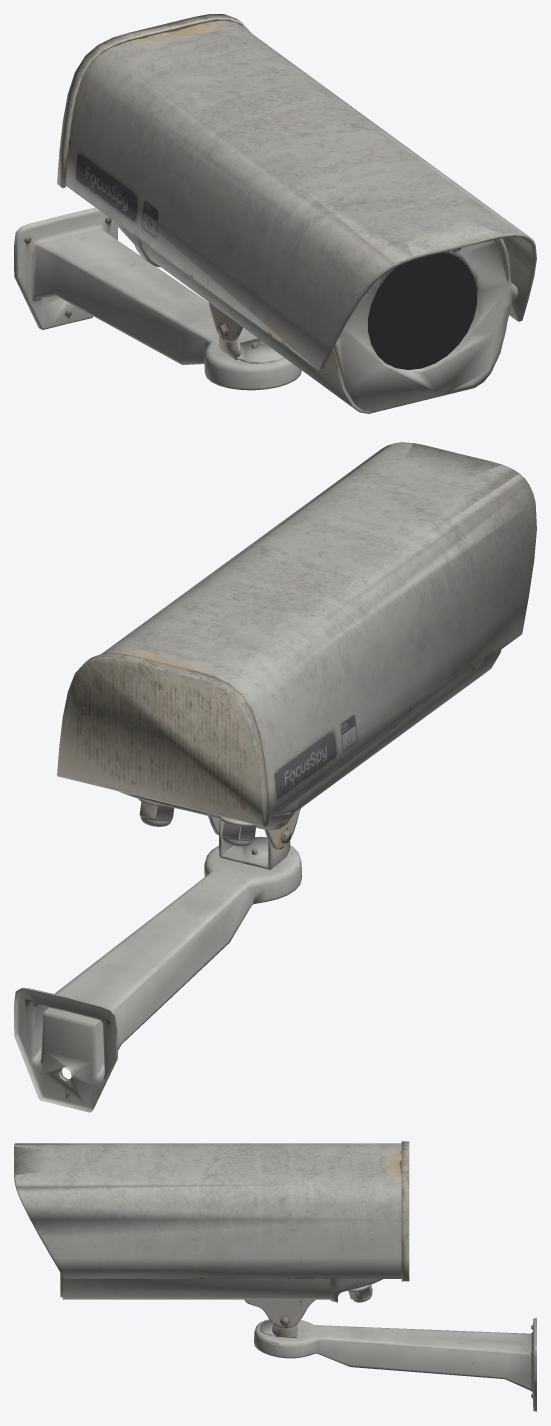
Rendered from security_camera_01.glb.
3 views of the same model, one above another, from view 1: azimuth 30°, elevation 25°; view 2: azimuth 150°, elevation 25°; view 3: azimuth 270°, elevation 25° (orthographic). The views are drawn at different scales.
Parts seen in each view (by area): view 1: security_camera_01; view 2: security_camera_01; view 3: security_camera_01.
Part boxes in pixels (x1,y1,x2,y2): security_camera_01: (14, 14, 536, 413); security_camera_01: (14, 442, 536, 1112); security_camera_01: (14, 1141, 536, 1411).
Bounding box in the file's own units: 0.1696 × 0.286 × 0.5537.
2 materials, 2 textured.
